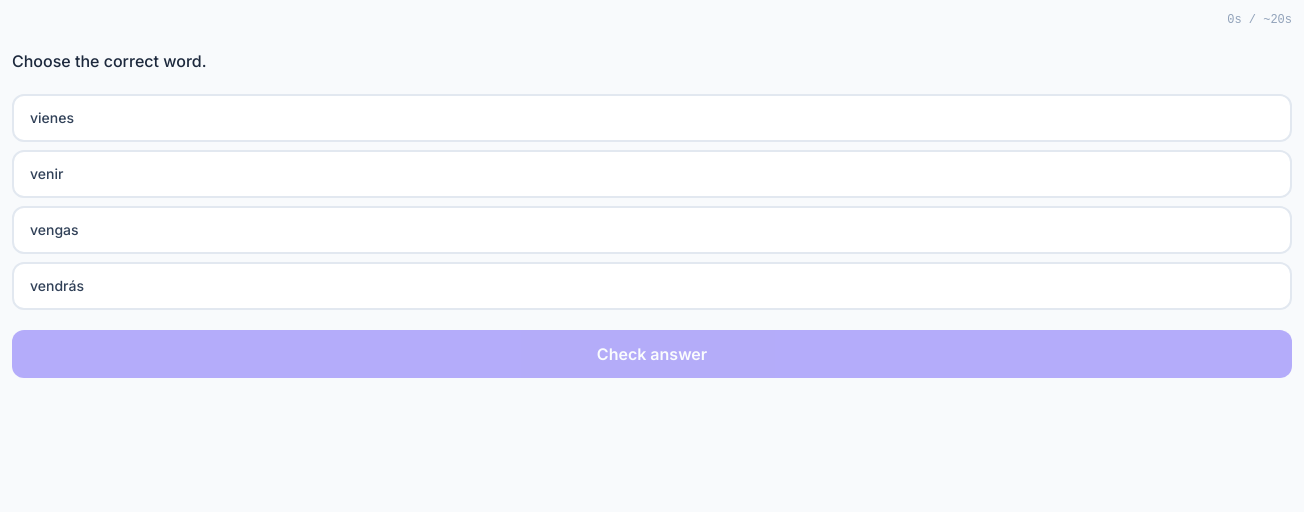
test 11 — correct answer validation is position-independent › selecting wrong answer when correct is not first gives incorrect feedback
Check: the radio button does not show "vengas"
Click the radio button labelled "vienes" at (52, 118), box [12,94,1292,142]
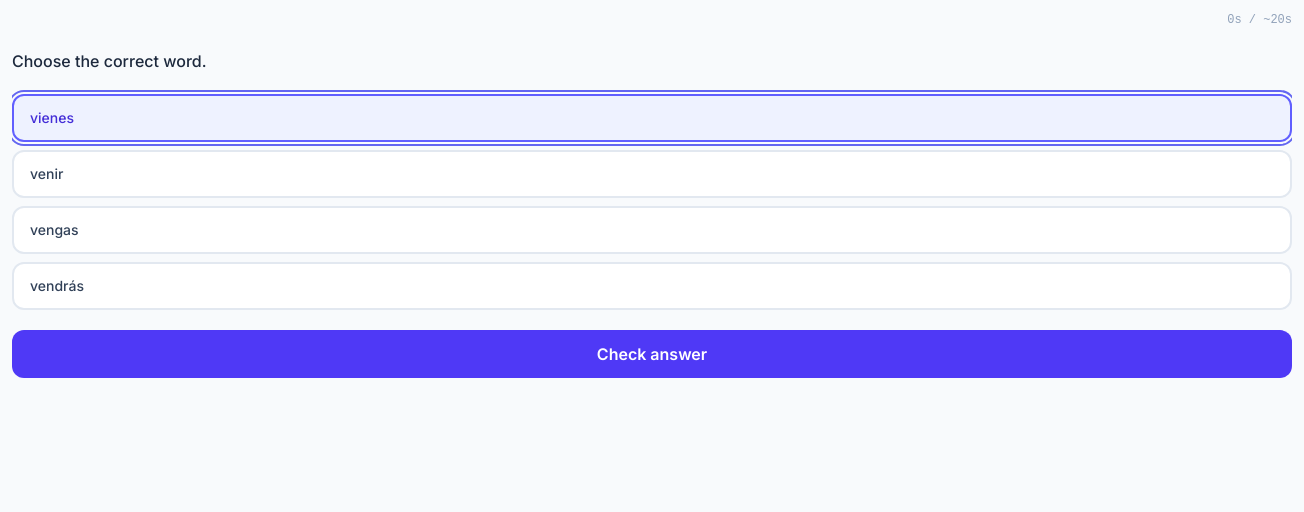
Click the button "Check answer" at (652, 354), box [12,330,1292,378]
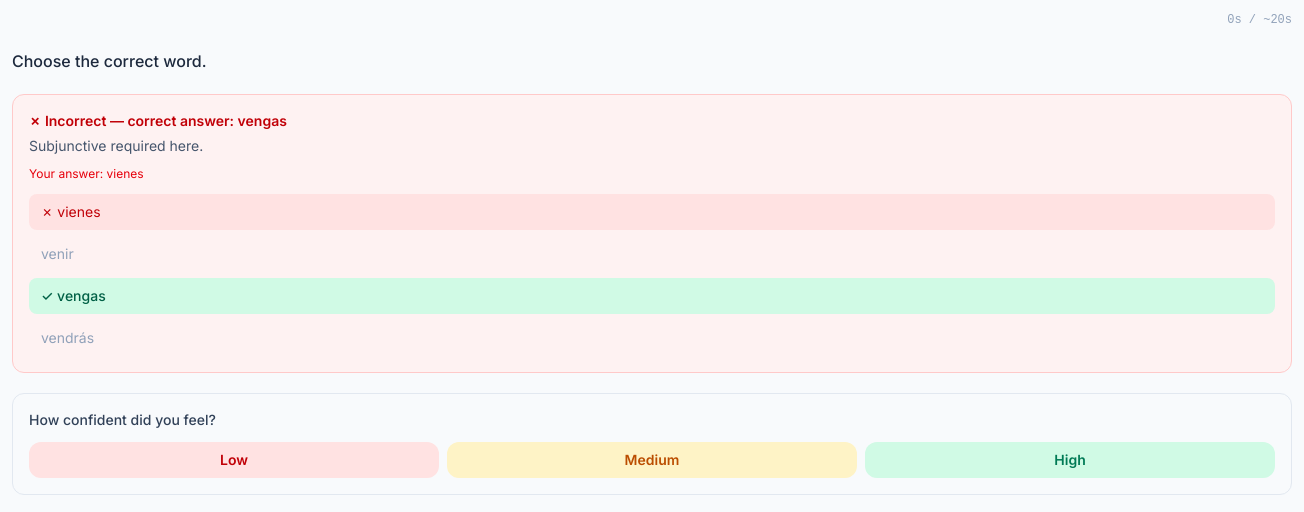
Check: the text "✗ Incorrect — correct answer: vengas" is shown, box [29,112,287,129]
